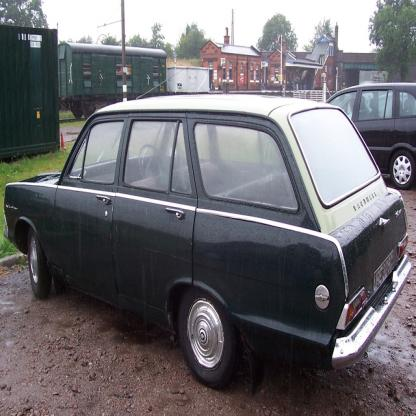Car: (3, 61, 414, 389), (322, 83, 416, 194), (351, 91, 409, 118)
